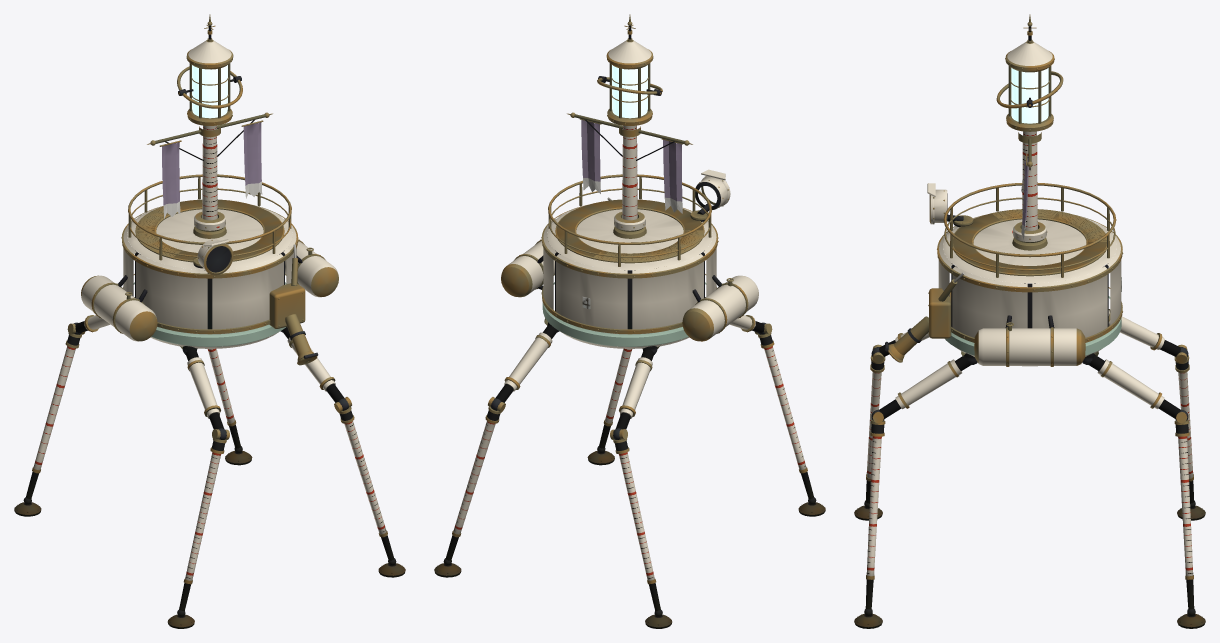
The model's file is gauge.glb.
The picture shows the model from 3 angles, left to right: view 1: azimuth 30°, elevation 25°; view 2: azimuth 150°, elevation 25°; view 3: azimuth 270°, elevation 25°; orthographic projection. The views are drawn at different scales.
Visible parts, largest first — view 1: gauge-hull, gauge-lantern; view 2: gauge-hull, gauge-lantern; view 3: gauge-hull, gauge-lantern, gauge-float.
Part boxes in pixels (x1,y1,x2,y2): gauge-hull: [14, 14, 405, 628]; gauge-lantern: [192, 65, 227, 118]; gauge-hull: [434, 14, 825, 628]; gauge-lantern: [612, 65, 647, 118]; gauge-hull: [854, 14, 1205, 628]; gauge-lantern: [1011, 68, 1048, 123]; gauge-float: [1012, 222, 1047, 242].
Size of what is drawn, in the model's own units: 2.56 by 5.5 by 3.16.
2 materials, 1 textured.
